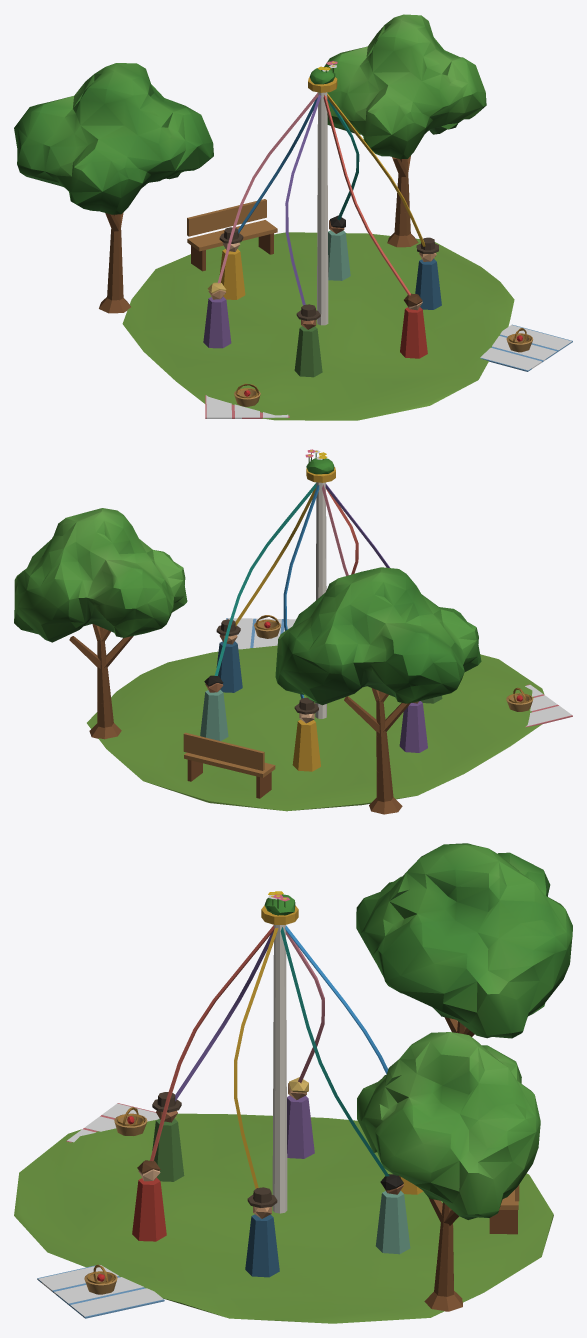
Rendered from village_green.glb.
3 renders of one model, top to bottom at view 1: azimuth 30°, elevation 25°; view 2: azimuth 150°, elevation 25°; view 3: azimuth 270°, elevation 25°, orthographic. The views are drawn at different scales.
Parts seen in each view (by area): view 1: town-village_green; view 2: town-village_green; view 3: town-village_green.
Part boxes in pixels (box(x1,y1,x2,y2)): town-village_green: box(14, 14, 572, 420); town-village_green: box(14, 449, 572, 814); town-village_green: box(14, 843, 572, 1323).
Bounding box in the file's own units: 8.54 × 4.88 × 7.5.
